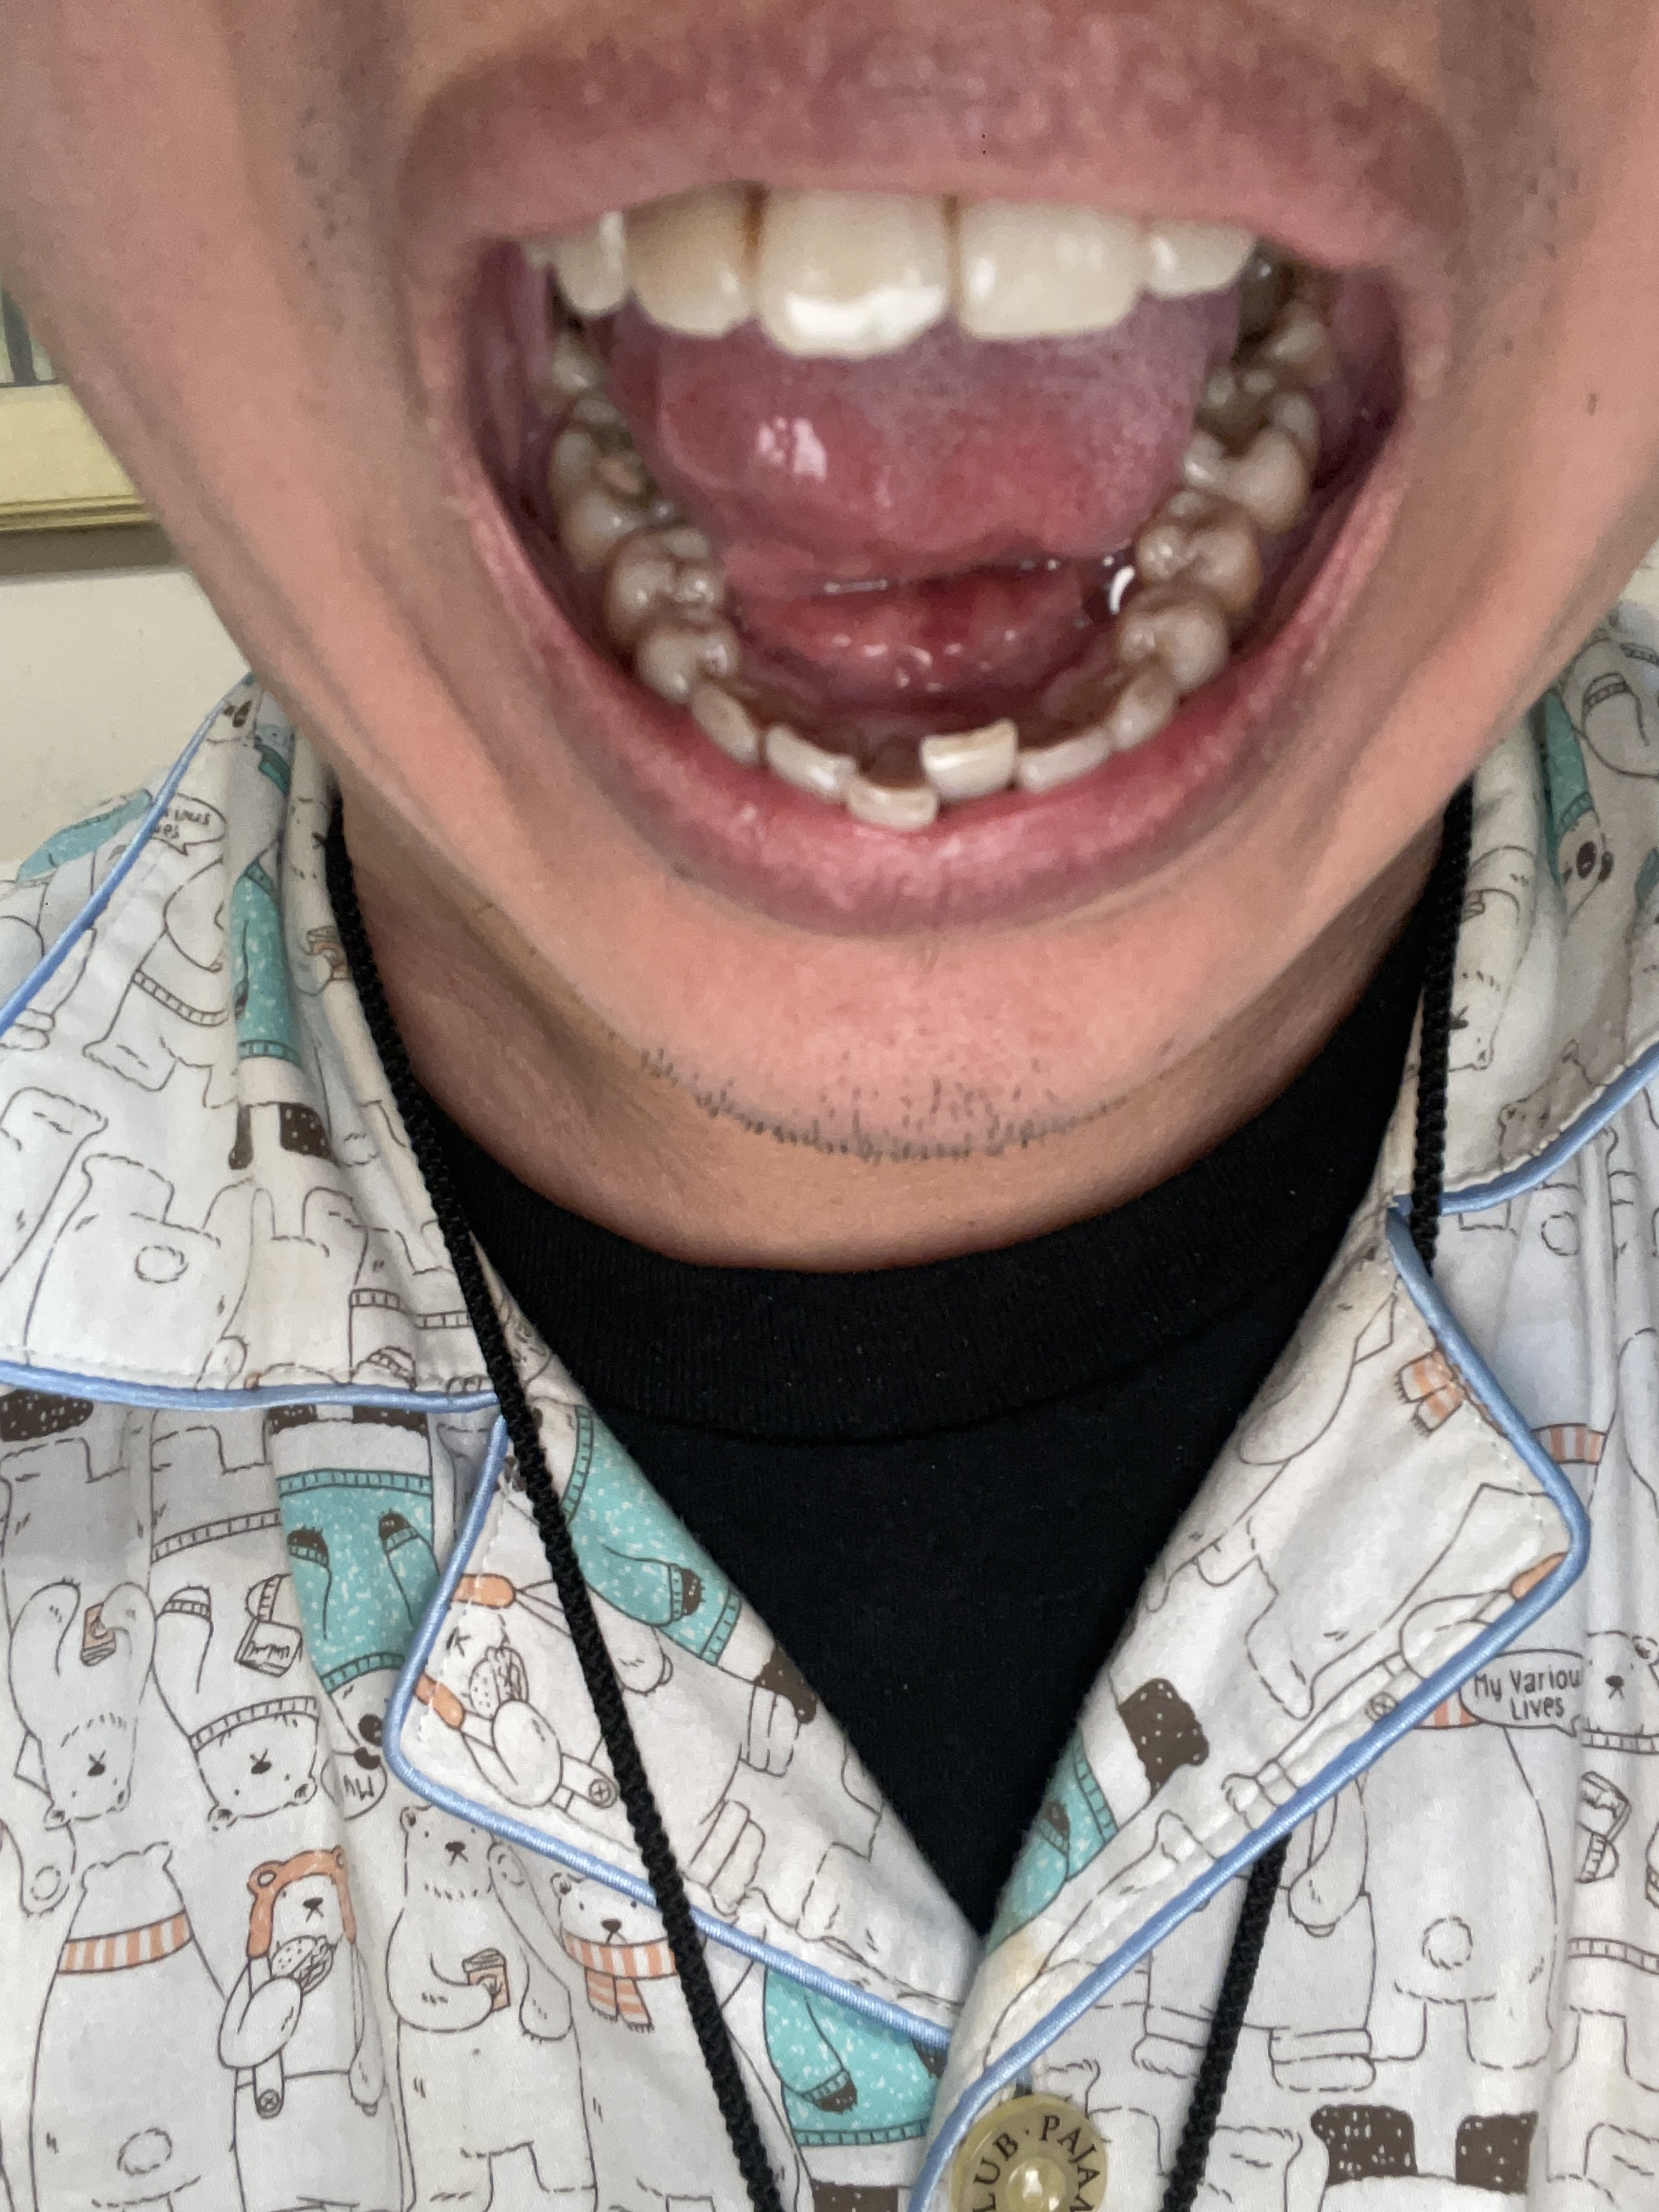teeth: (760, 195, 931, 348), (962, 202, 1133, 333), (643, 200, 739, 336), (1202, 392, 1307, 500), (561, 421, 667, 521), (622, 526, 718, 610), (1147, 498, 1243, 578), (925, 712, 1011, 786), (1145, 590, 1218, 662), (852, 770, 936, 829), (1040, 726, 1110, 784), (1161, 233, 1237, 284), (1079, 681, 1159, 728), (650, 629, 727, 676), (779, 730, 840, 786), (699, 688, 753, 751), (559, 249, 592, 293)
